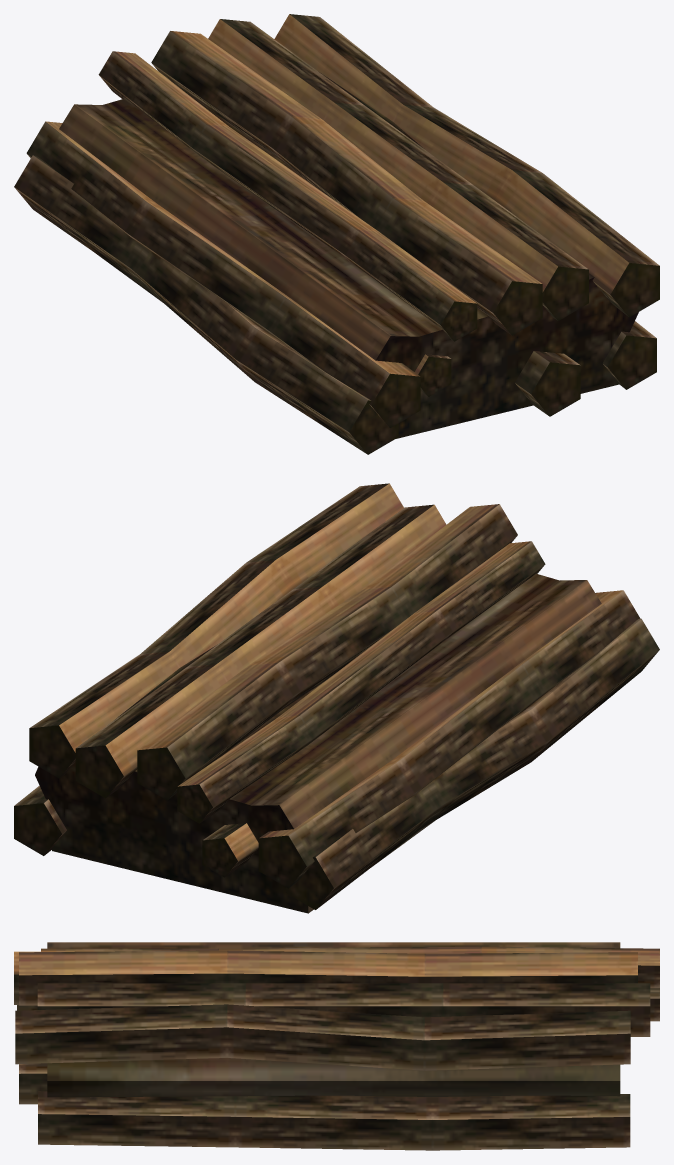
The picture shows the model from 3 angles, top to bottom: view 1: azimuth 30°, elevation 25°; view 2: azimuth 150°, elevation 25°; view 3: azimuth 270°, elevation 25°; orthographic projection. The views are drawn at different scales.
Visible parts, largest first — view 1: Sphere01; view 2: Sphere01; view 3: Sphere01.
Boxes of the visible parts, bbox=[...] form: Sphere01: bbox=[14, 14, 659, 454]; Sphere01: bbox=[14, 483, 659, 913]; Sphere01: bbox=[14, 942, 659, 1150].
Size of the model in its own units: 2.38 by 1.01 by 4.42.
